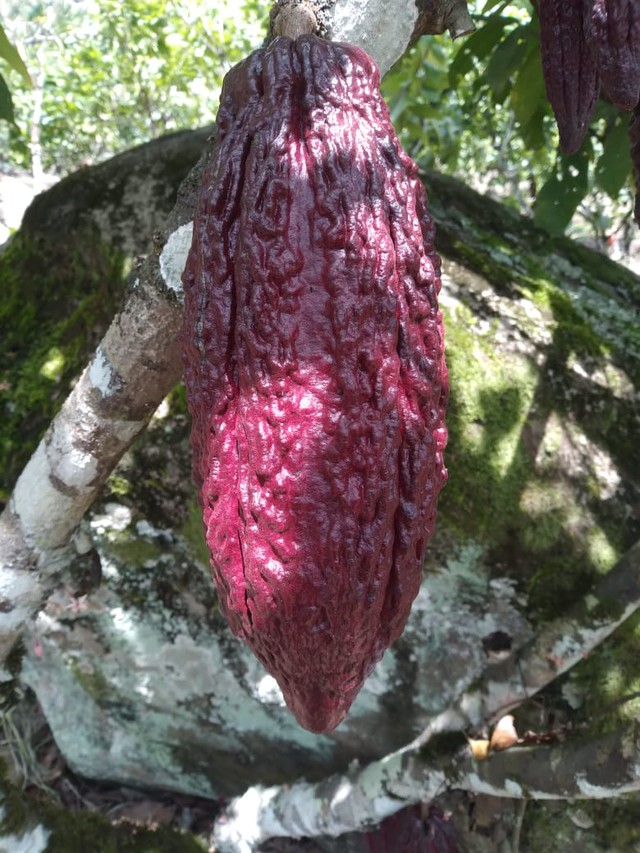Health: (158, 11, 473, 753)
